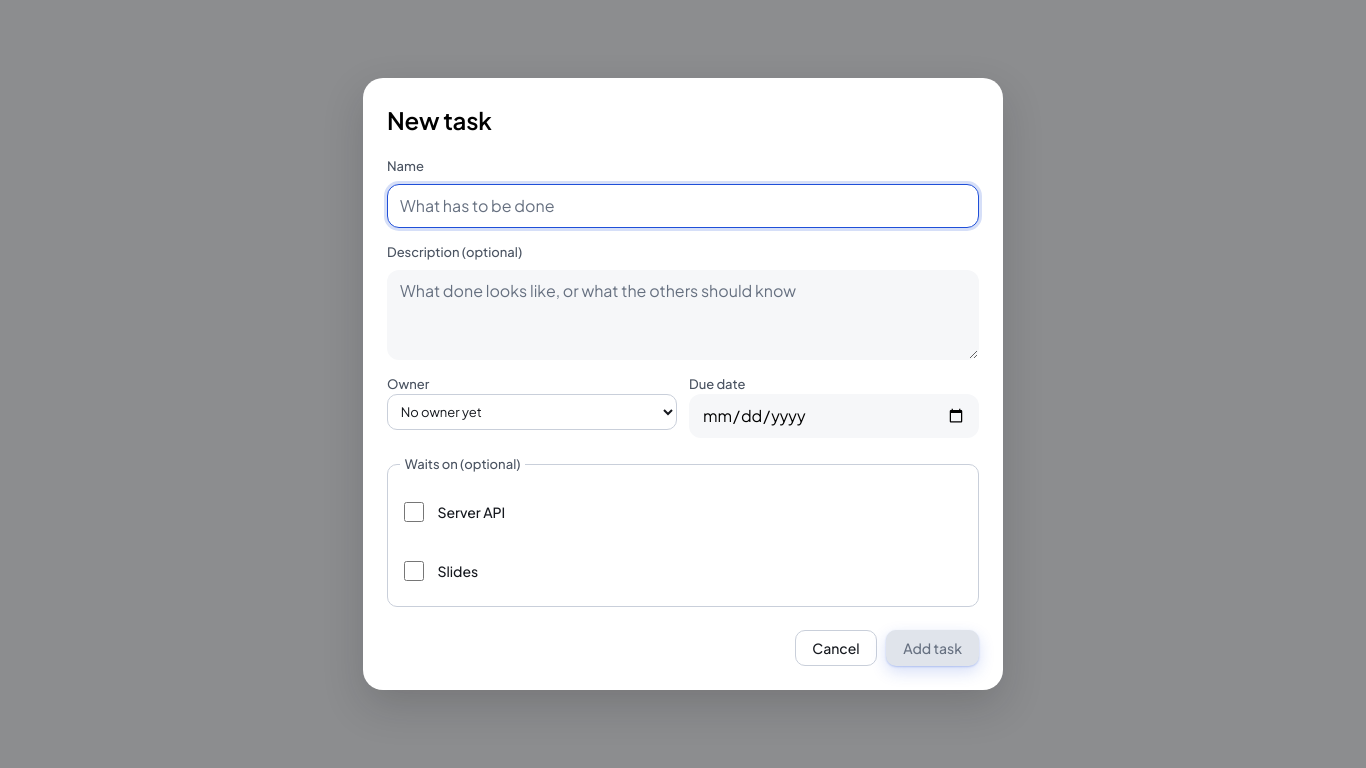
Scenario: new task: a refusal from the server is shown in the popup and what was typed stays
This screenshot has width=1366, height=768.
Step 1. Type "Test the API" into the field labelled "Name" → (683, 206), box top-left (387, 184), bottom-right (979, 228)
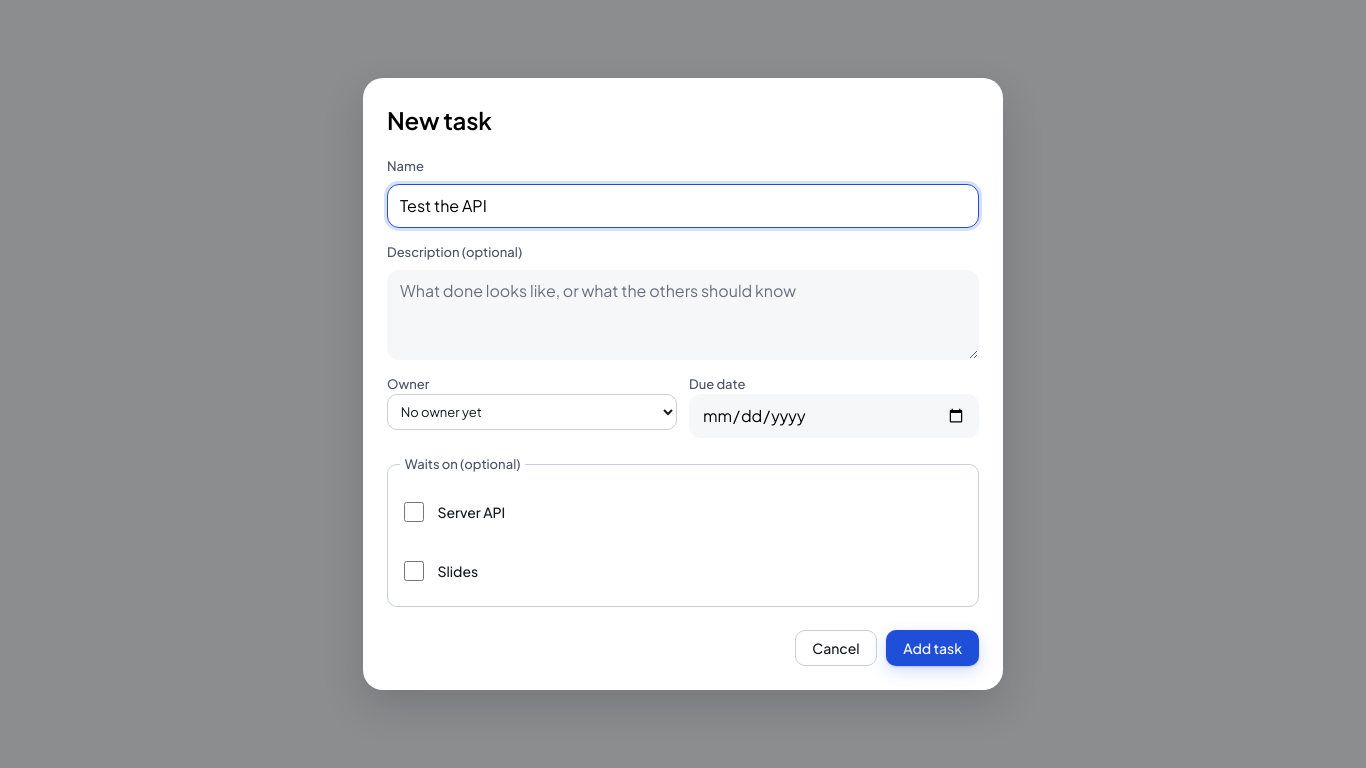
Step 2. Click the button "Add task" → click(933, 648), box top-left (886, 630), bottom-right (979, 666)
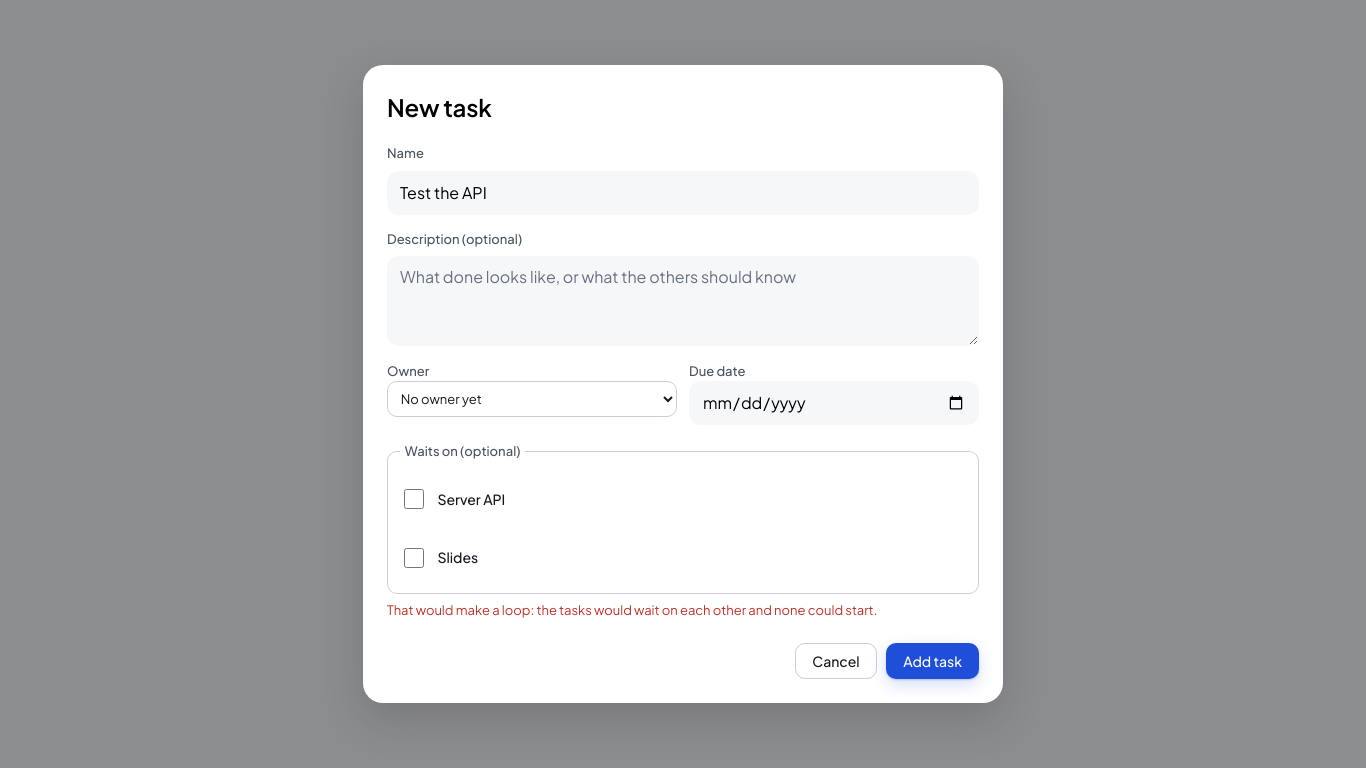
Now the message shows "That would make a loop", box top-left (387, 602), bottom-right (877, 618)
